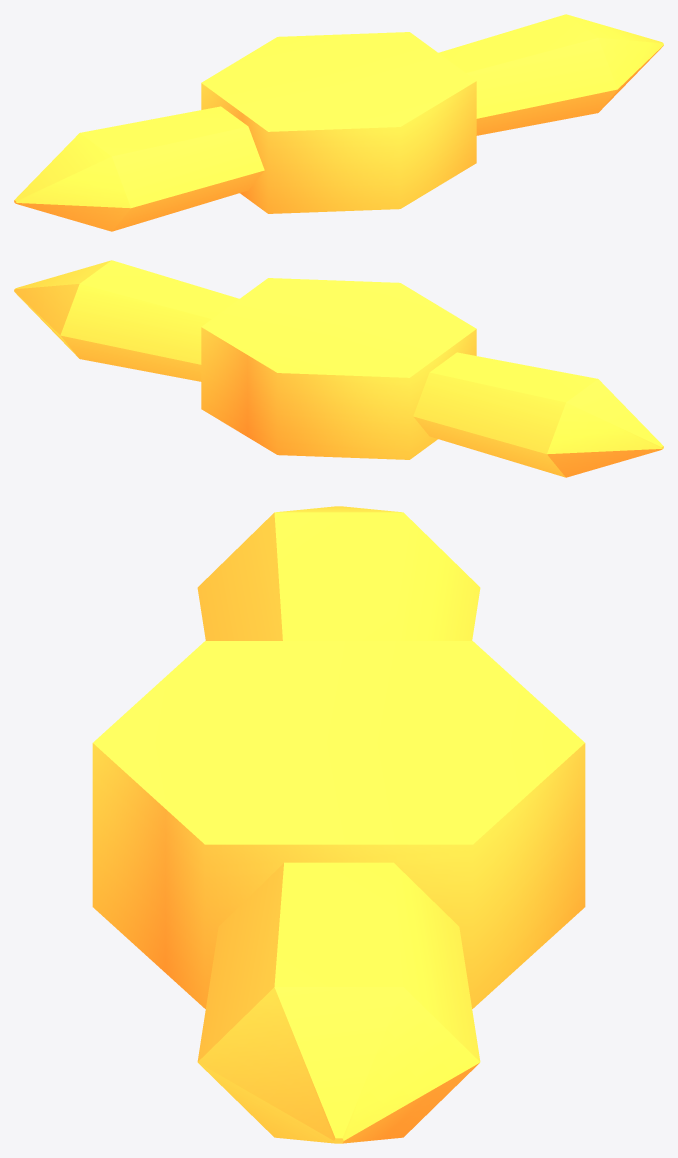
File: gold_guard_011.glb
3 views of the same model, one above another, from view 1: azimuth 30°, elevation 25°; view 2: azimuth 150°, elevation 25°; view 3: azimuth 270°, elevation 25° (orthographic). The views are drawn at different scales.
Parts seen in each view (by area): view 1: gold_guard_011; view 2: gold_guard_011; view 3: gold_guard_011.
Part boxes in pixels (x1=…): gold_guard_011: x1=14, y1=14, x2=663, y2=231; gold_guard_011: x1=14, y1=260, x2=663, y2=477; gold_guard_011: x1=92, y1=506, x2=585, y2=1143.
Bounding box in the file's own units: 9.73 × 1.18 × 3.21.
1 material, 1 textured.
